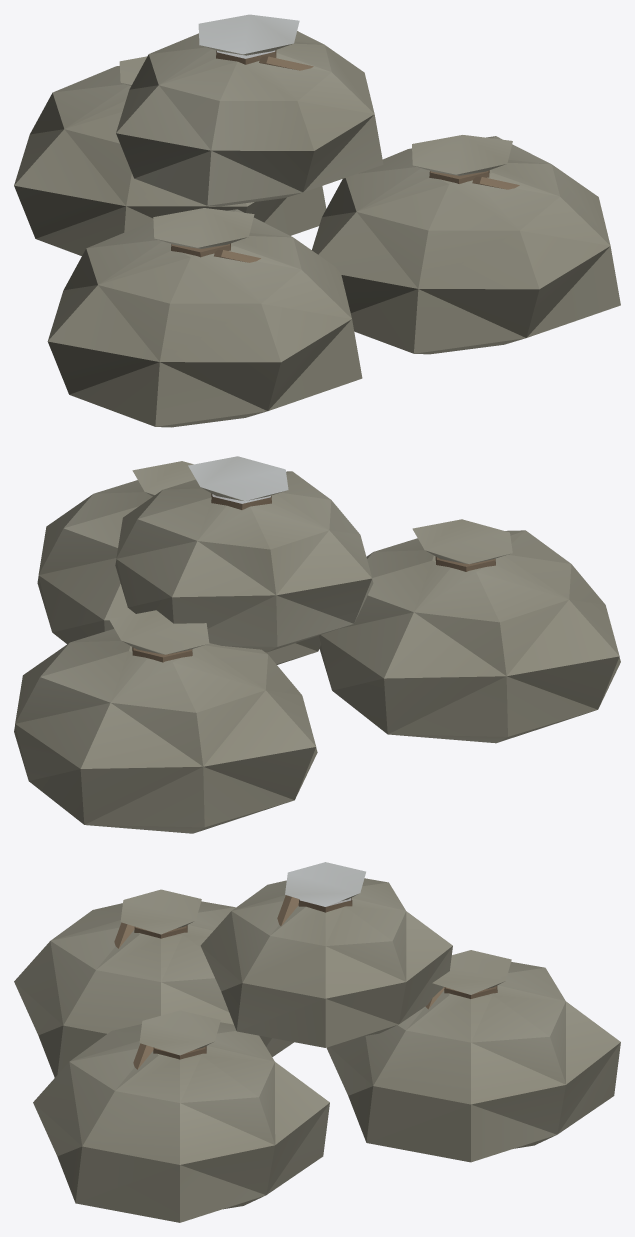
File: sack_pile.glb
The picture shows the model from 3 angles, top to bottom: view 1: azimuth 30°, elevation 25°; view 2: azimuth 150°, elevation 25°; view 3: azimuth 270°, elevation 25°; orthographic projection. The views are drawn at different scales.
Visible parts, largest first — view 1: sack_pile; view 2: sack_pile; view 3: sack_pile.
Boxes of the visible parts, x1,y1,x2,y2 form: sack_pile: (14,14,620,427); sack_pile: (14,456,620,833); sack_pile: (14,862,620,1222).
Size of the model in its own units: 2 by 0.85 by 2.
